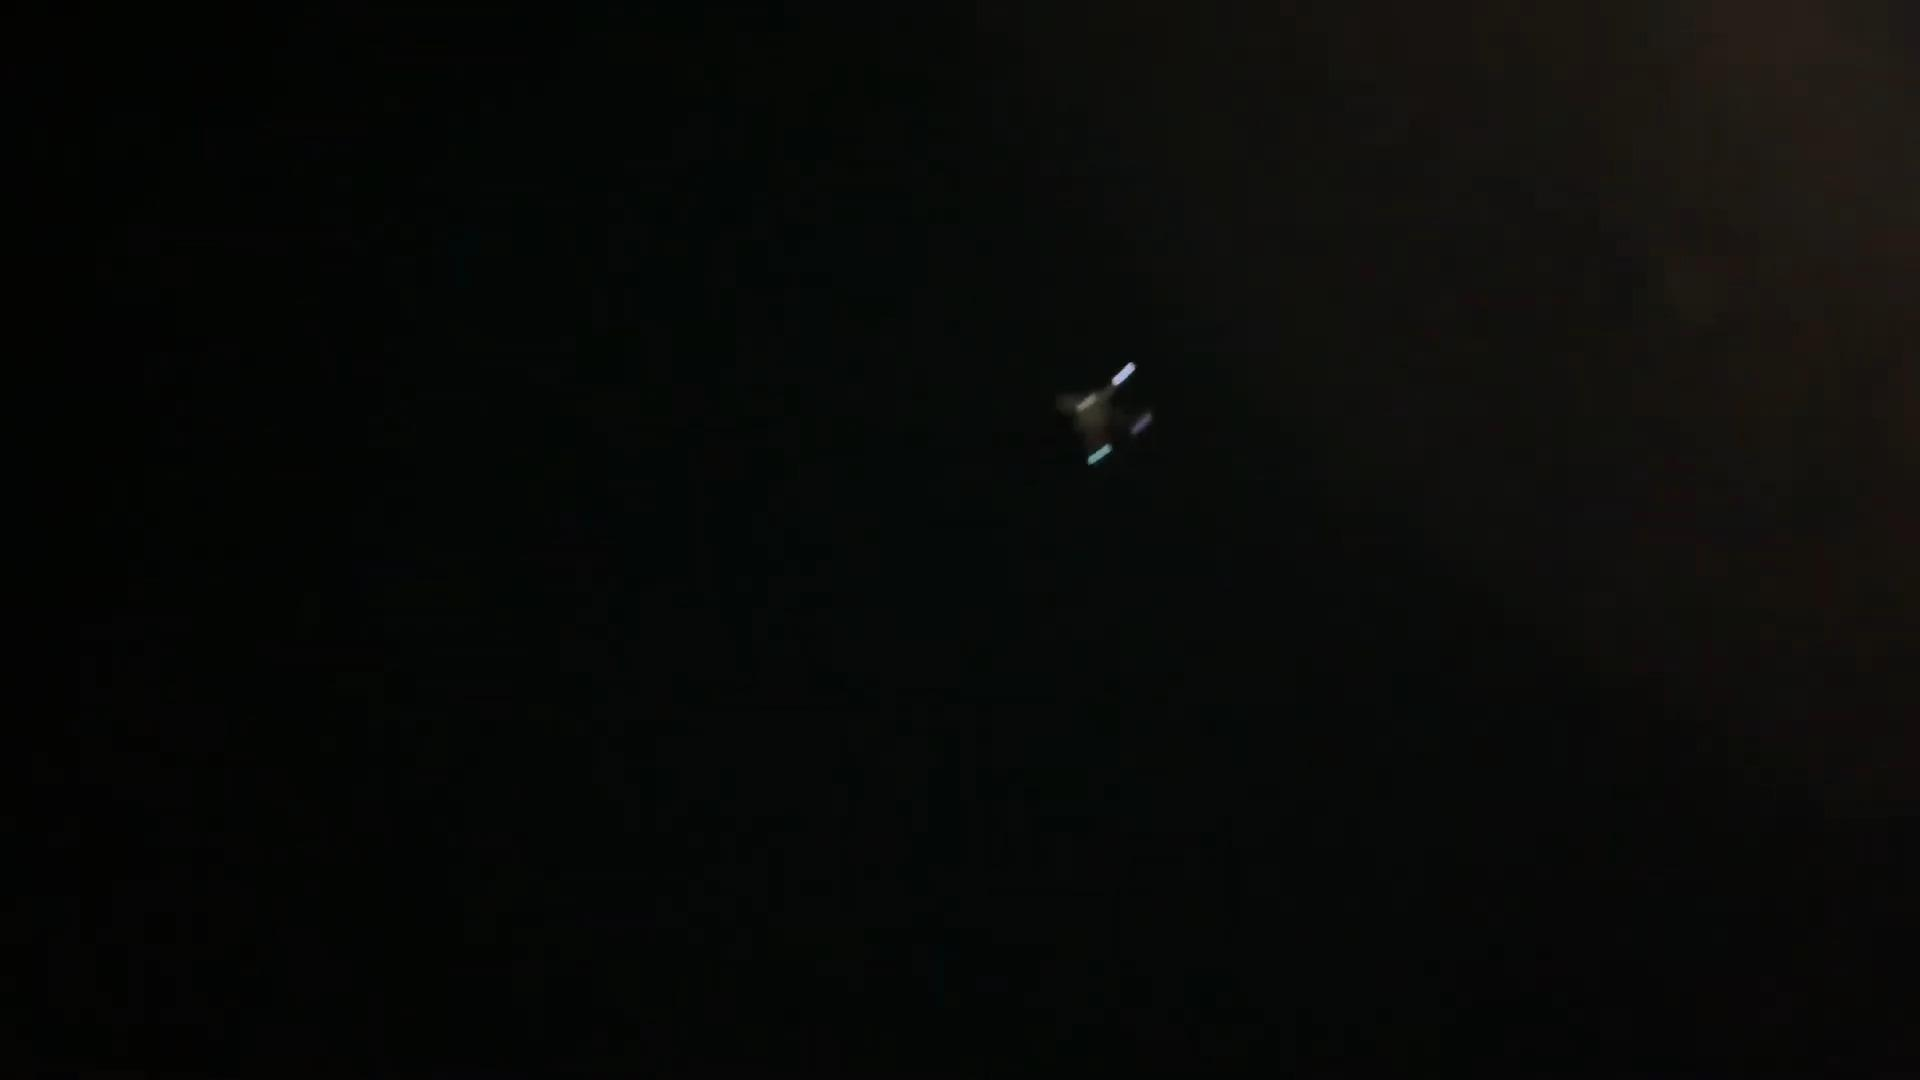Plane: (967, 324, 1241, 493)
